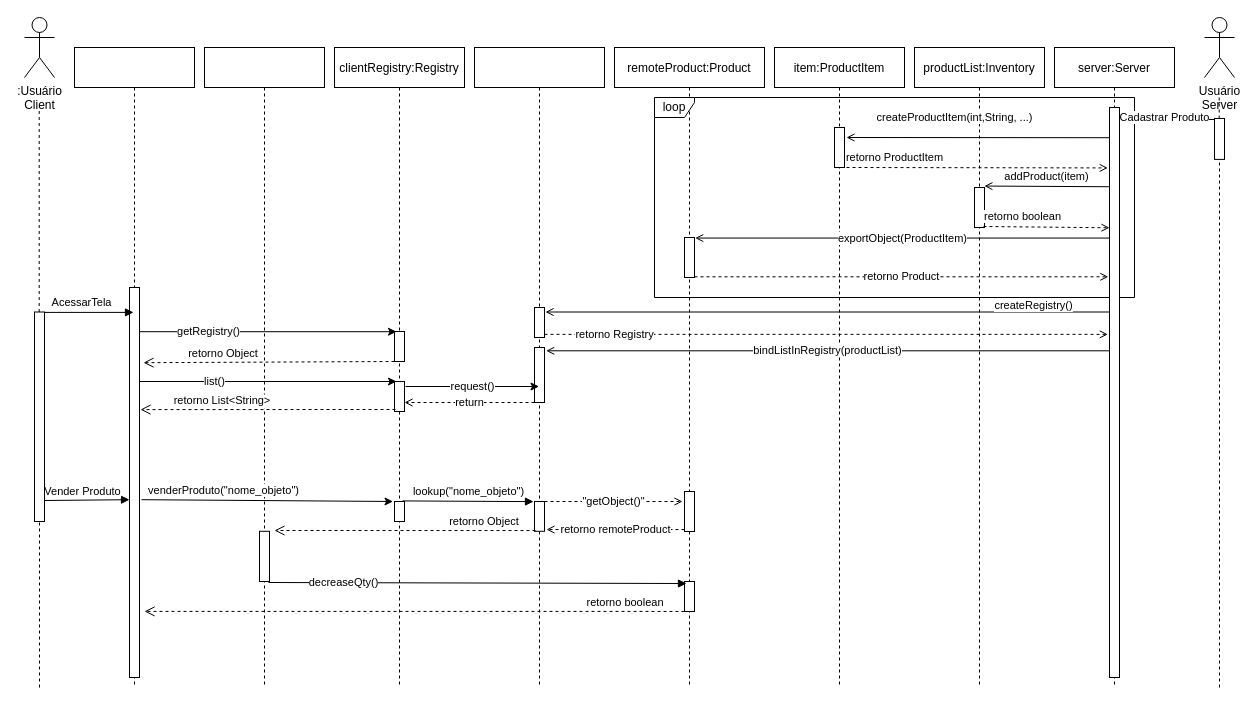
The diagram is 1257 pixels wide and 706 high, and some of its shapes have lost their labels. Here are the shapes that lost their labels. From the top down, the box of each, then its label:
(74, 46, 194, 688): client:Client
(204, 46, 324, 688): product:Product
(474, 46, 604, 688): serverRegistry:Registry
